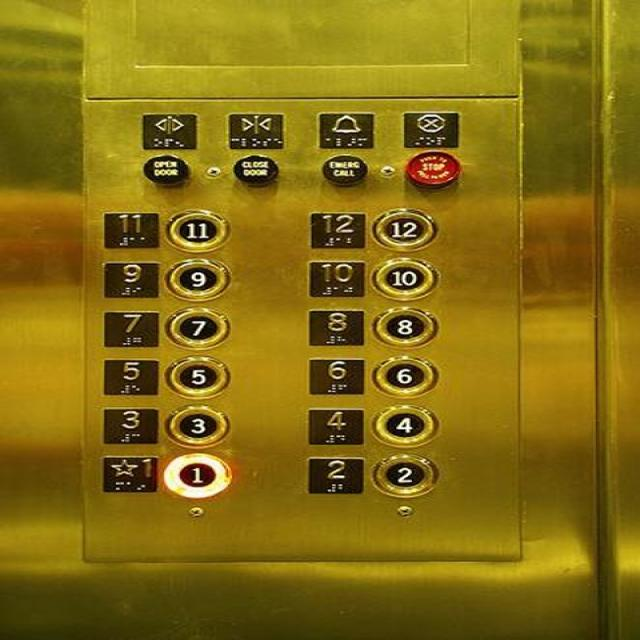1: (161, 451, 231, 497)
10: (368, 256, 440, 301), (301, 257, 367, 299)
11: (162, 208, 230, 253), (98, 209, 162, 250)
12: (368, 206, 437, 251), (304, 209, 369, 250)
2: (369, 451, 439, 497), (301, 453, 367, 495)
3: (164, 403, 228, 447), (97, 402, 160, 445)
4: (368, 403, 439, 447), (303, 404, 365, 446)
5: (164, 354, 229, 399), (99, 355, 160, 396)
6: (371, 355, 438, 397), (303, 355, 368, 396)
7: (164, 306, 231, 349), (97, 307, 160, 348)
8: (368, 306, 437, 347), (303, 306, 367, 348)
9: (161, 257, 231, 301), (99, 258, 160, 300)
alarm: (314, 108, 378, 149)
close: (223, 110, 285, 150)
open: (135, 109, 200, 151)
s1: (97, 451, 159, 494)
stop: (398, 107, 462, 149)
text_alarm bell: (320, 153, 367, 185)
text_close door: (229, 152, 279, 184)
text_open door: (139, 153, 188, 184)
text_stop: (400, 148, 460, 187)
